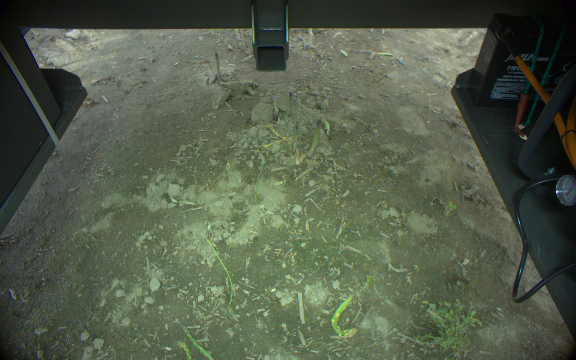aspa: (203, 233, 237, 320), (177, 318, 213, 360), (330, 291, 358, 339), (307, 120, 321, 159), (173, 340, 192, 360), (212, 50, 223, 84), (269, 95, 278, 123), (285, 89, 293, 118)
